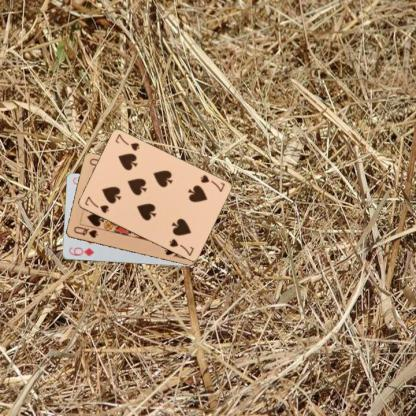6d: (66, 245, 95, 258)
7s: (82, 193, 110, 214), (198, 172, 226, 193)
Qs: (71, 224, 99, 239)
